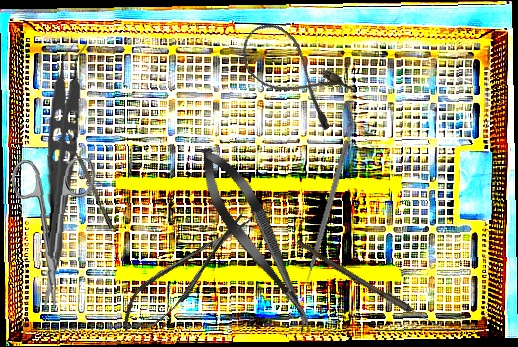Cannula: (229, 14, 360, 134)
Chopper: (294, 137, 351, 291), (56, 119, 114, 232)
Iris Scissors: (4, 154, 97, 312)
Micro Scissor: (186, 137, 329, 342), (109, 205, 263, 342)
Surgical Spoon: (293, 239, 454, 337)
Tissue Forceps: (41, 42, 92, 270)
